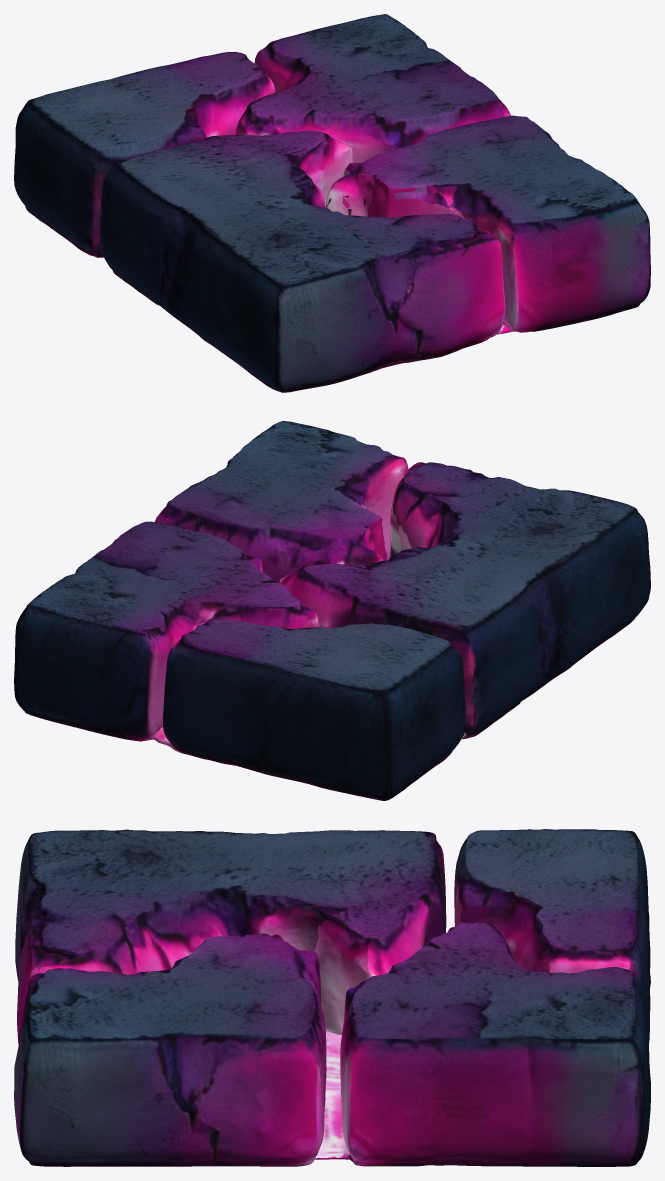
The model's file is approach-stone-6-generated-2026-05-17T18-25-16-260Z.medium.glb.
3 renders of one model, top to bottom at view 1: azimuth 30°, elevation 25°; view 2: azimuth 150°, elevation 25°; view 3: azimuth 270°, elevation 25°, orthographic. The views are drawn at different scales.
Visible parts, largest first — view 1: temp_mesh.ply; view 2: temp_mesh.ply; view 3: temp_mesh.ply.
Part boxes in pixels (left/top/right/bottom): temp_mesh.ply: left=14, top=14, right=650, bottom=392; temp_mesh.ply: left=14, top=421, right=650, bottom=800; temp_mesh.ply: left=14, top=829, right=650, bottom=1166.
Size of the model in its own units: 1.64 by 0.4521 by 1.97.
1 material, 1 textured.
